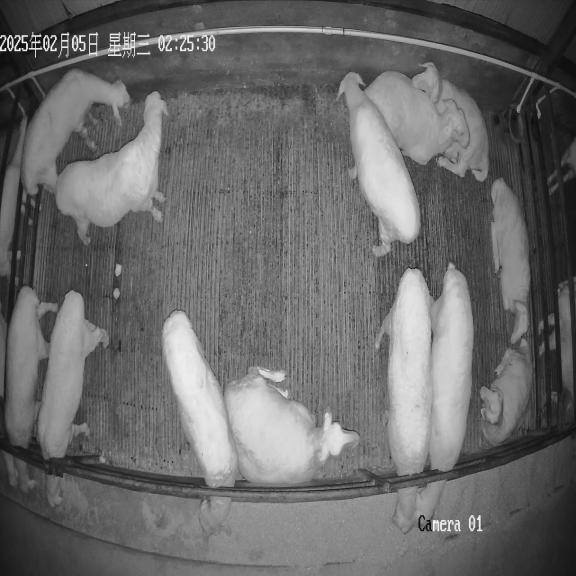eating: (162, 310, 238, 534), (415, 263, 474, 528), (37, 290, 109, 506), (374, 268, 432, 534), (4, 286, 59, 492)
lying: (224, 367, 359, 484), (364, 71, 469, 165), (412, 63, 489, 182), (491, 178, 530, 344), (479, 338, 533, 446)
stand: (55, 92, 167, 244), (338, 72, 420, 257), (21, 69, 130, 195)
